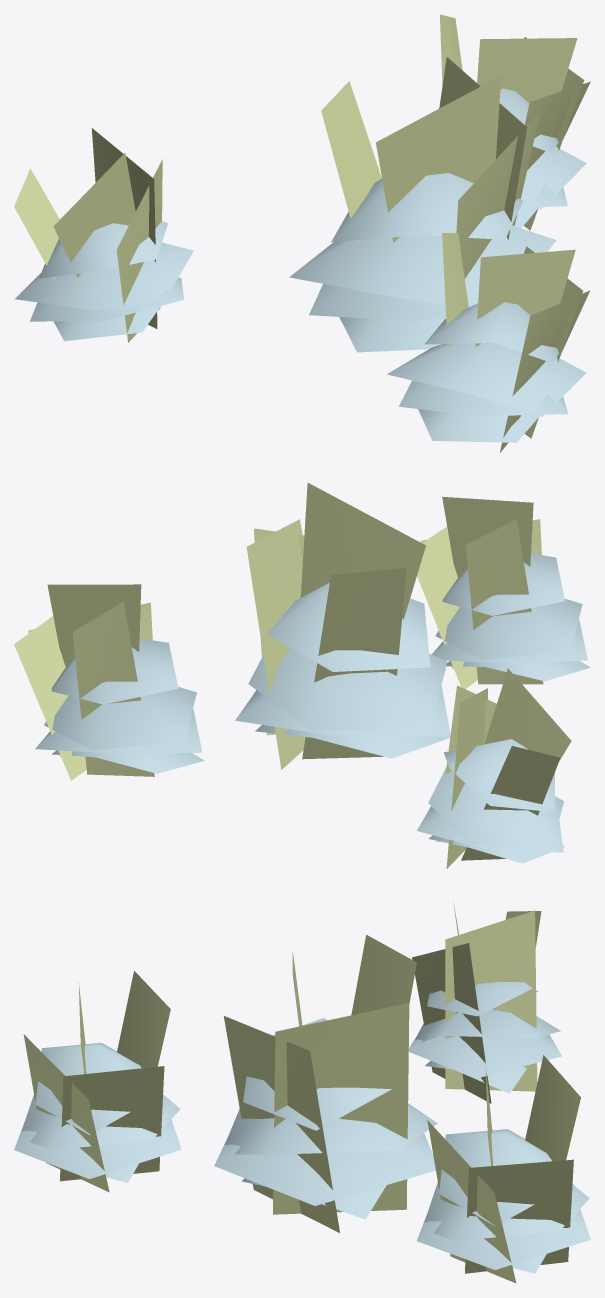
3 renders of one model, top to bottom at view 1: azimuth 30°, elevation 25°; view 2: azimuth 150°, elevation 25°; view 3: azimuth 270°, elevation 25°, orthographic. The views are drawn at different scales.
Parts seen in each view (by area): view 1: Object18; view 2: Object18; view 3: Object18.
Boxes of the visible parts, <box> form: Object18: <box>14,14,590,452</box>; Object18: <box>14,483,590,868</box>; Object18: <box>14,902,590,1283</box>.
Size of the model in its own units: 315 by 134 by 282.
